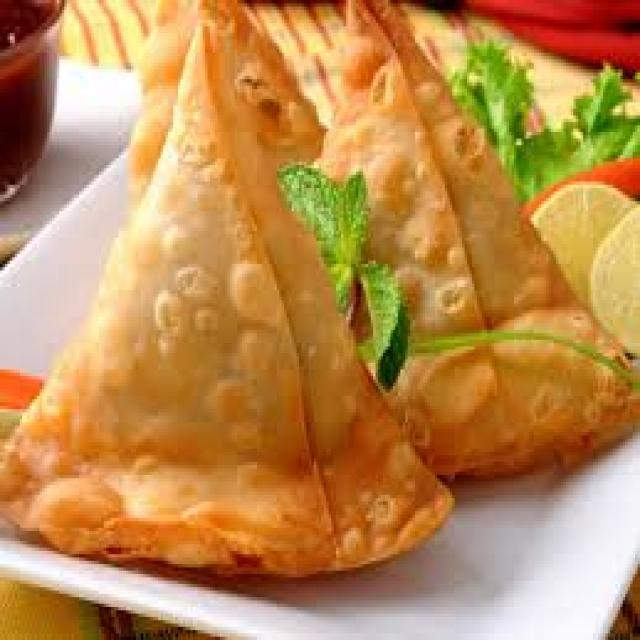SAMOSA: (0, 0, 452, 574), (321, 0, 638, 472)
